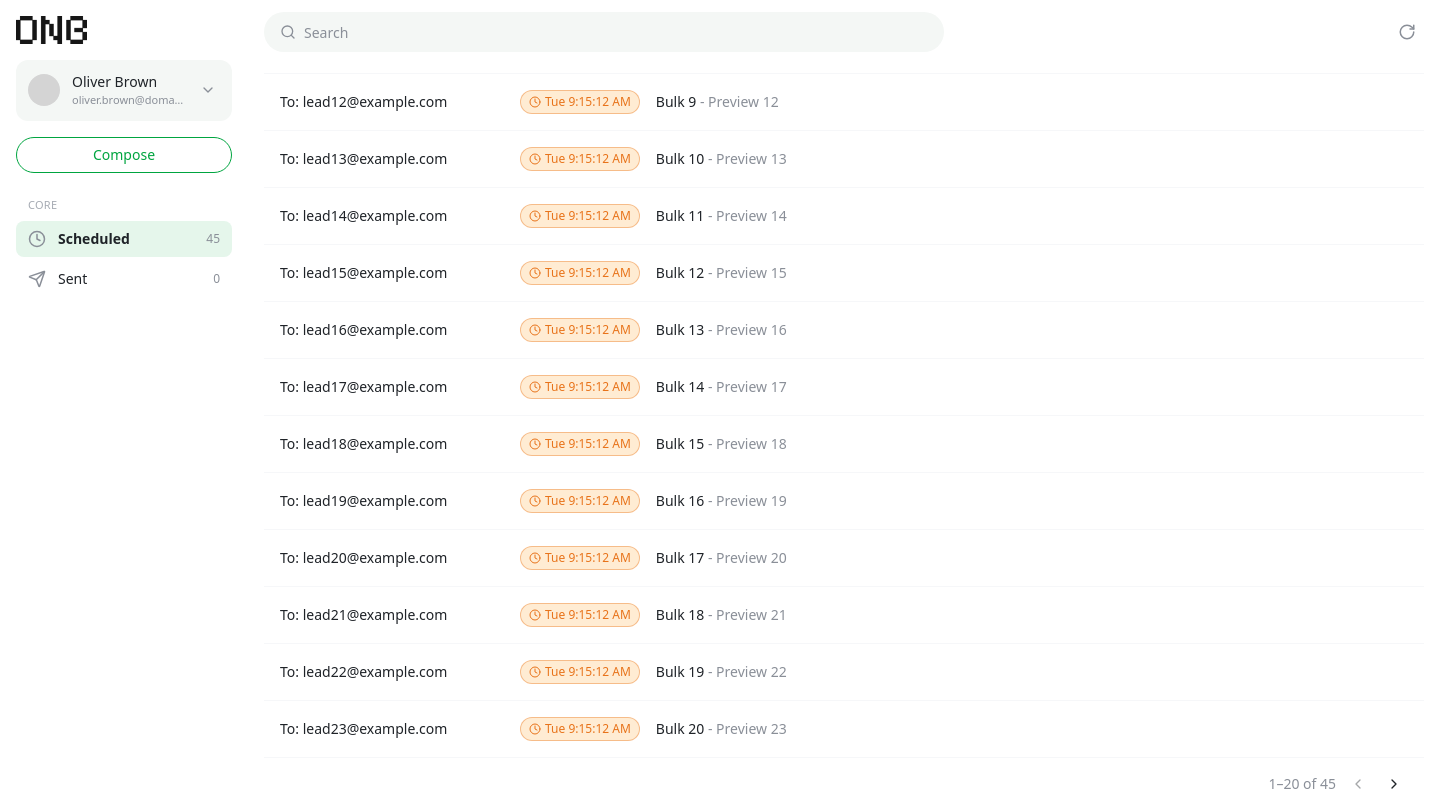
Test: Scheduled tab › paginates with the page in the URL (?page=N)
(page scrolled)
expect the text "1–20 of 45" is shown: met, box [1268,774,1336,794]
expect the button named "Previous page" is disabled: met, box [1344,770,1372,798]
Click the button named "Next page": (1394, 784) [1380,770,1408,798]
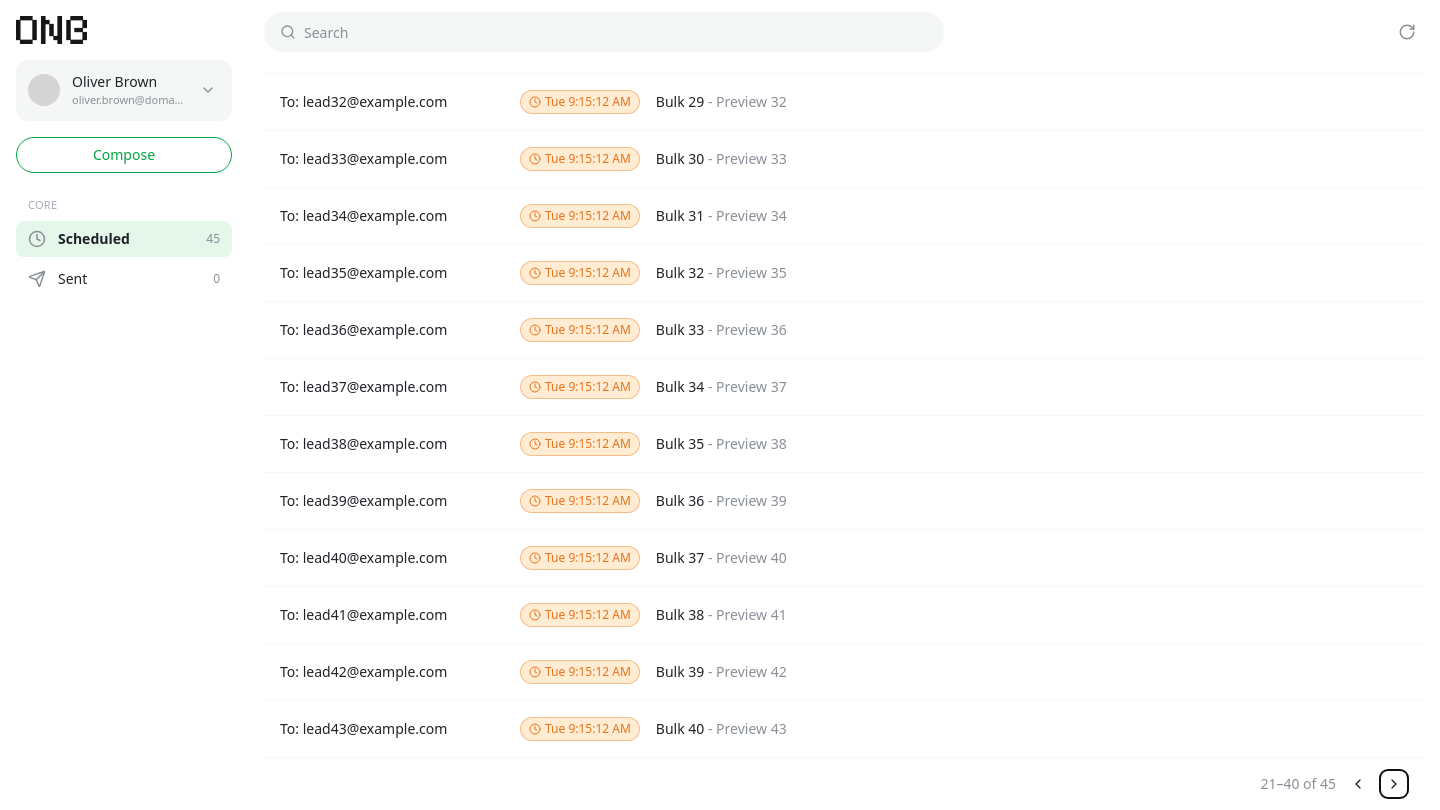
expect the text "21–40 of 45" is shown: met, box [1260,774,1336,794]
Click the button named "Next page": (1394, 784) [1380,770,1408,798]
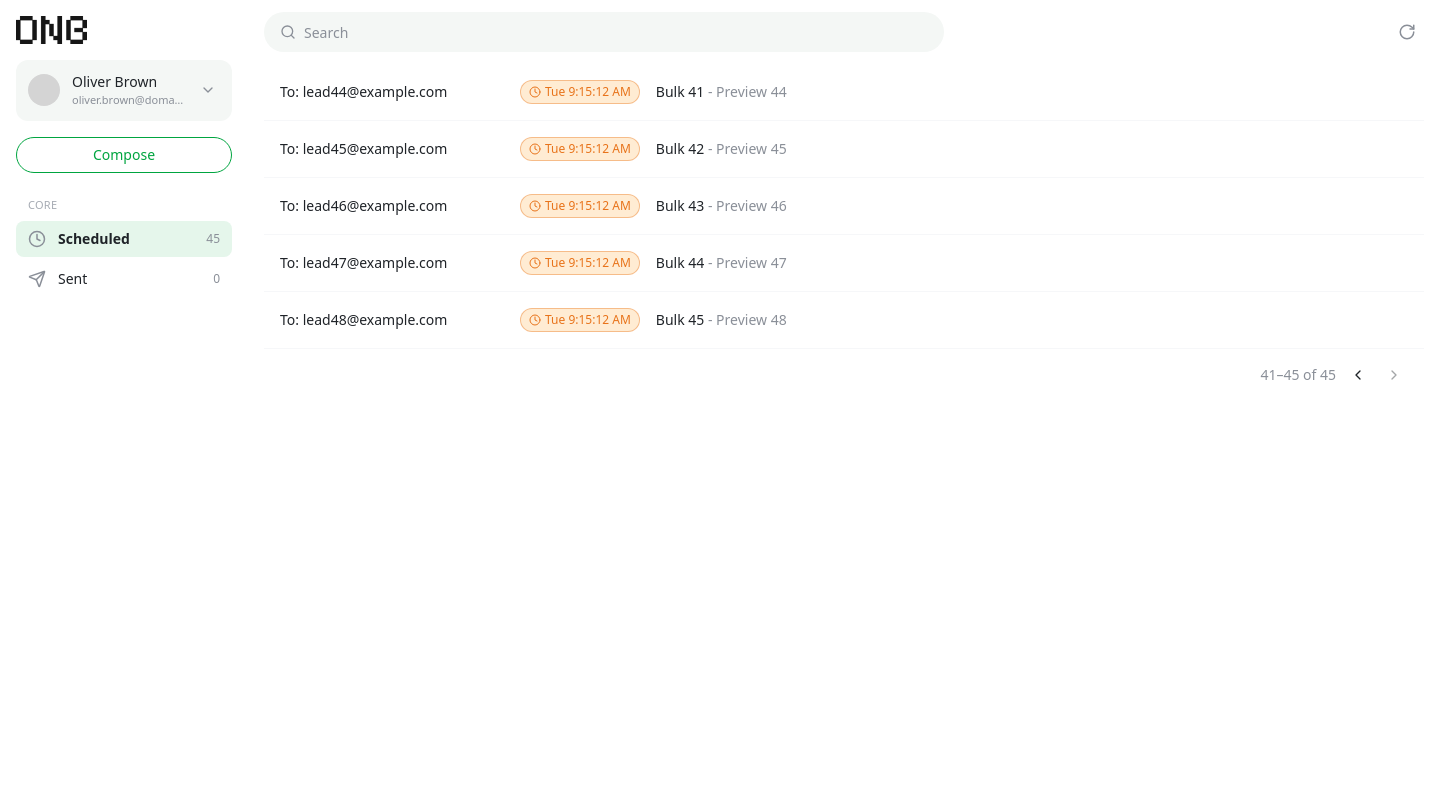
expect the button named "Next page" is disabled: met, box [1380,361,1408,389]
expect the text "Bulk 45" is shown: met, box [656,310,704,329]
